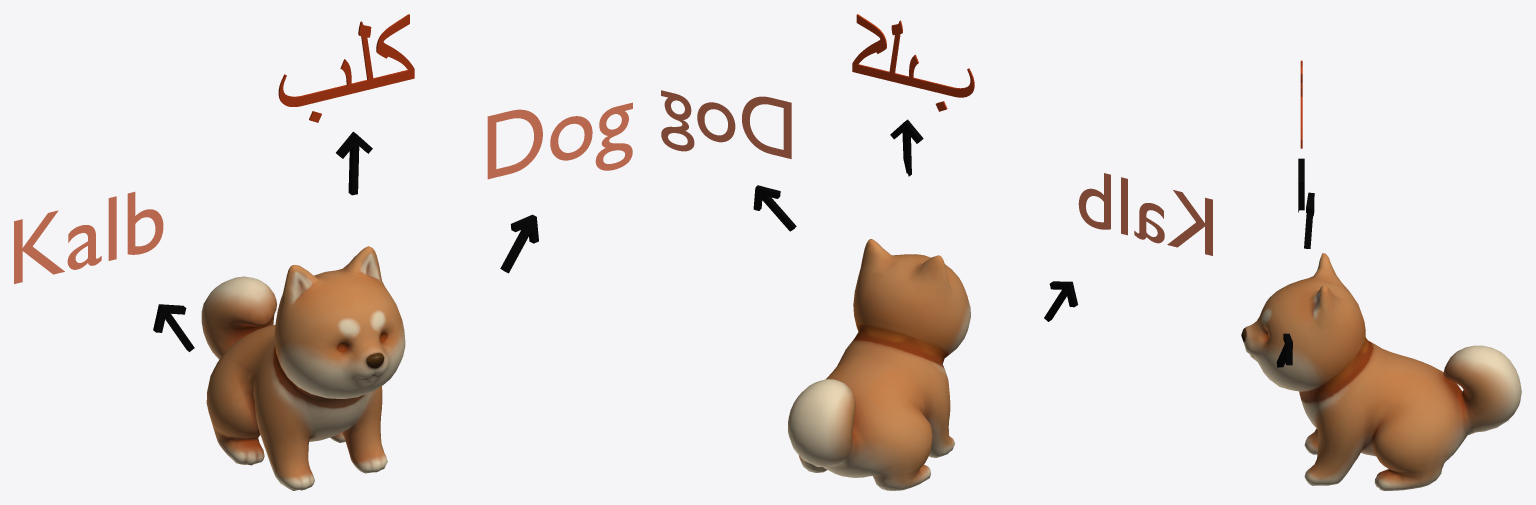
File: dog.fbx
3 views of the same model, side by side, from view 1: azimuth 30°, elevation 25°; view 2: azimuth 150°, elevation 25°; view 3: azimuth 270°, elevation 25° (orthographic). The views are drawn at different scales.
Visible parts, largest first — view 1: Box002, Text.001, Text.004, text6, Cube.004, Cube.006, Cube.005; view 2: Box002, Text.001, Text.004, text6, Cube.004, Cube.006, Cube.005; view 3: Box002, Cube.005, Cube.004, Cube.006.
Part boxes in pixels (bbox=[...]): Box002: bbox=[201, 246, 405, 490]; Text.001: bbox=[487, 102, 632, 179]; Text.004: bbox=[14, 192, 163, 283]; text6: bbox=[278, 14, 414, 122]; Cube.004: bbox=[500, 214, 538, 273]; Cube.006: bbox=[336, 131, 372, 195]; Cube.005: bbox=[153, 304, 194, 351]; Box002: bbox=[788, 239, 970, 490]; Text.001: bbox=[661, 90, 791, 158]; Text.004: bbox=[1078, 173, 1212, 255]; text6: bbox=[852, 14, 974, 111]; Cube.004: bbox=[753, 185, 796, 231]; Cube.006: bbox=[890, 119, 923, 176]; Cube.005: bbox=[1044, 281, 1077, 321]; Box002: bbox=[1241, 253, 1521, 490]; Cube.005: bbox=[1304, 192, 1314, 248]; Cube.004: bbox=[1276, 333, 1292, 367]; Cube.006: bbox=[1298, 158, 1304, 212].
Size of the model in its own units: 200 by 143 by 88.24.
4 materials, 1 textured.
